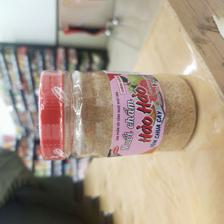Hao_hao: (36, 69, 198, 161)
